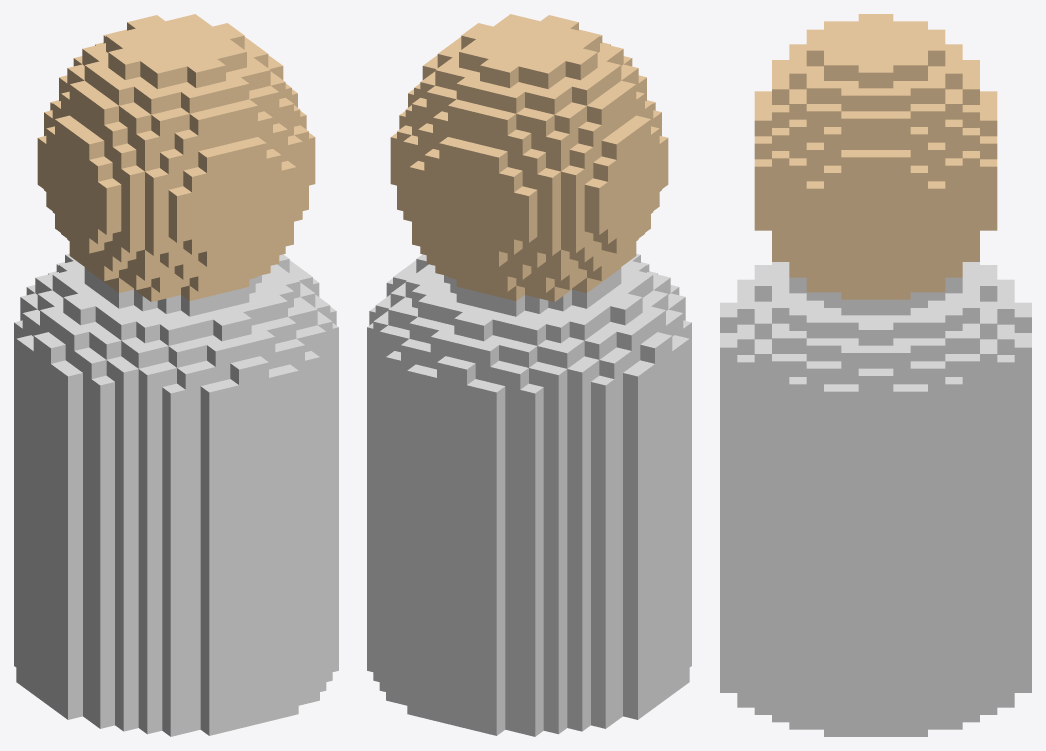
The model's file is Person_9.fbx.
3 views of the same model, side by side, from view 1: azimuth 30°, elevation 25°; view 2: azimuth 150°, elevation 25°; view 3: azimuth 270°, elevation 25° (orthographic).
Parts seen in each view (by area): view 1: Person_9; view 2: Person_9; view 3: Person_9.
Part boxes in pixels (x1=…): Person_9: x1=14, y1=14, x2=338, y2=736; Person_9: x1=367, y1=14, x2=691, y2=736; Person_9: x1=720, y1=14, x2=1031, y2=736.
Bounding box in the file's own units: 18 × 40 × 18.
1 material, 1 textured.
